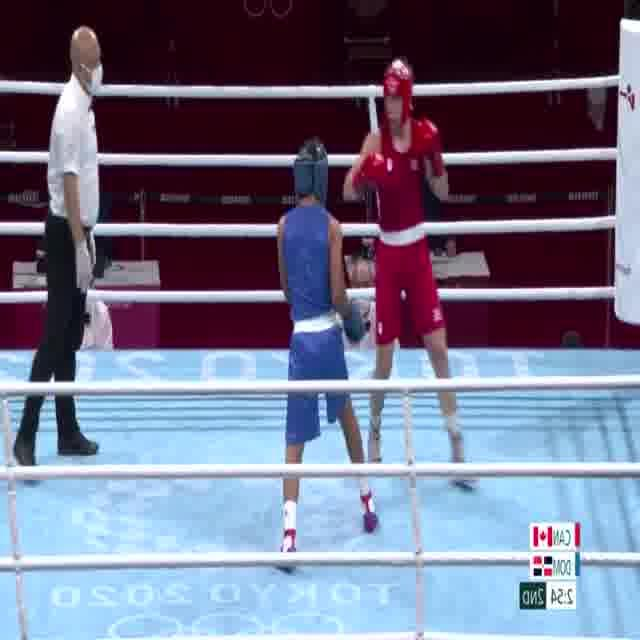blue-player: (270, 134, 380, 575)
red-player: (336, 56, 478, 494)
referee: (12, 24, 117, 486)
